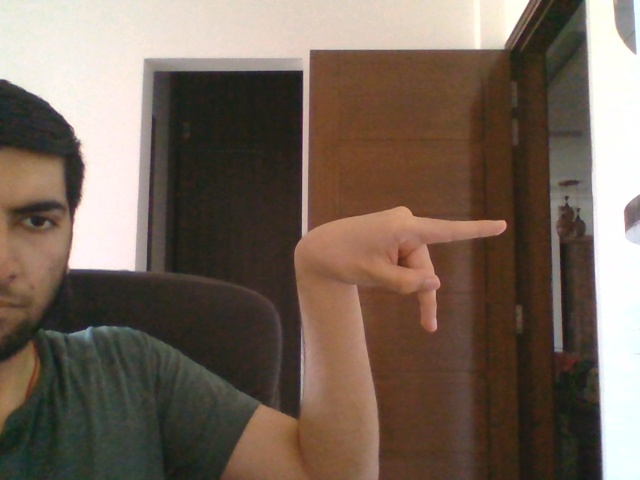LetterP: (292, 203, 507, 335)
